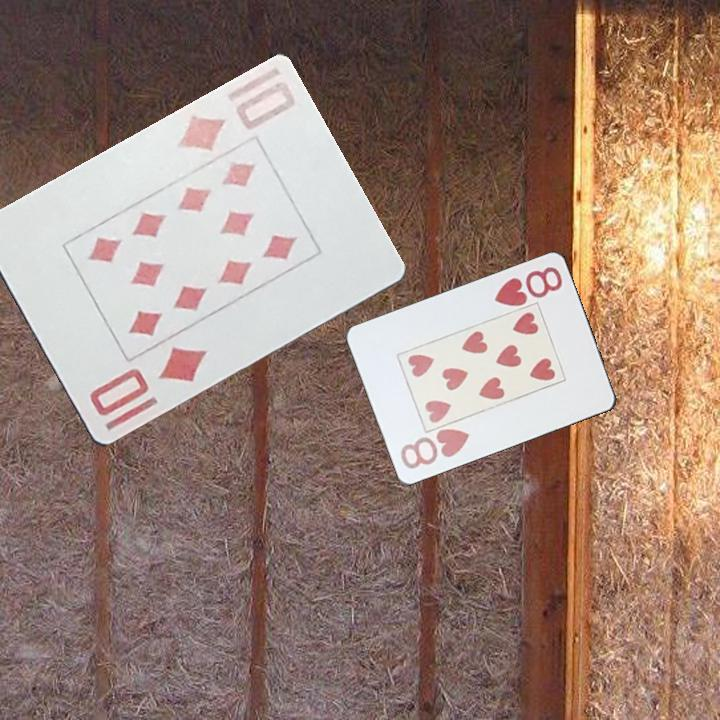8h: (396, 425, 472, 472), (490, 263, 565, 310)
Td: (85, 343, 211, 420), (172, 78, 298, 155)
